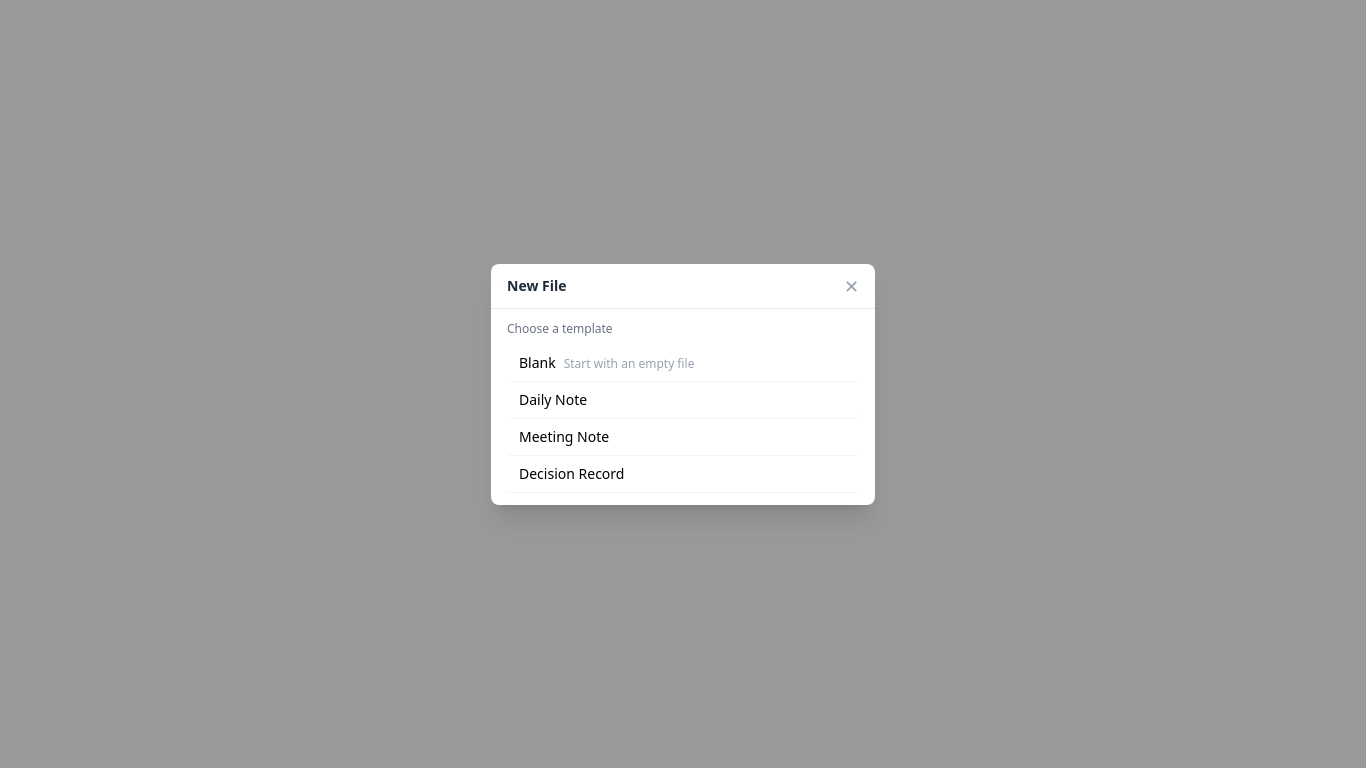
Test case: FolderPickerModal — template selection step (Wave 0 RED) › clicking "Blank" advances to step 2 (filename input is visible)
Click the text "Blank".
click(537, 362)  # box x1=519 y1=352 x2=556 y2=372
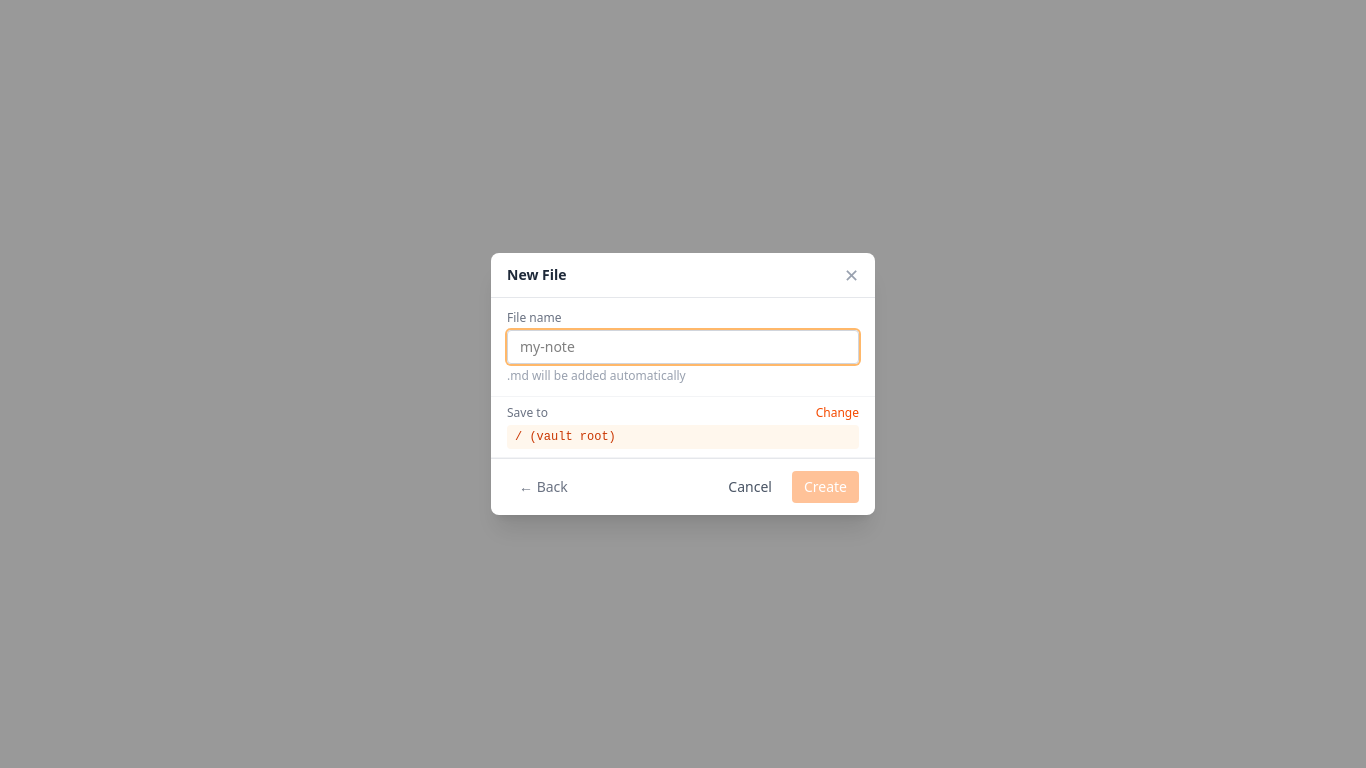
Check: the field with placeholder "my-note" is shown, box x1=507 y1=330 x2=859 y2=364
